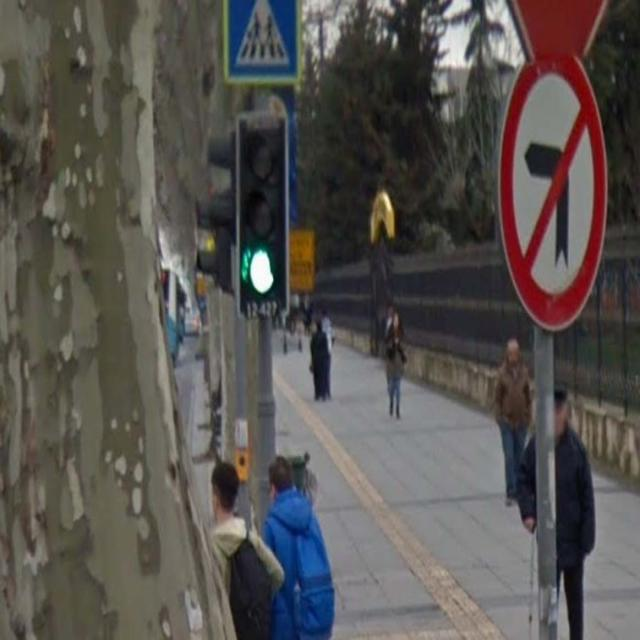soladonulmez: (499, 52, 608, 331)
yesil: (237, 115, 290, 318)
